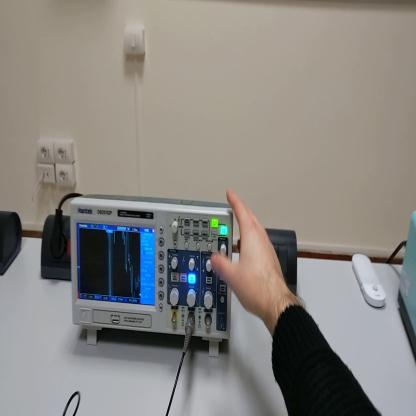hand: (211, 189, 284, 317)
oscilloscope: (68, 194, 234, 358)
socket: (41, 215, 73, 284), (2, 208, 25, 281)
welder station: (398, 211, 416, 370)
